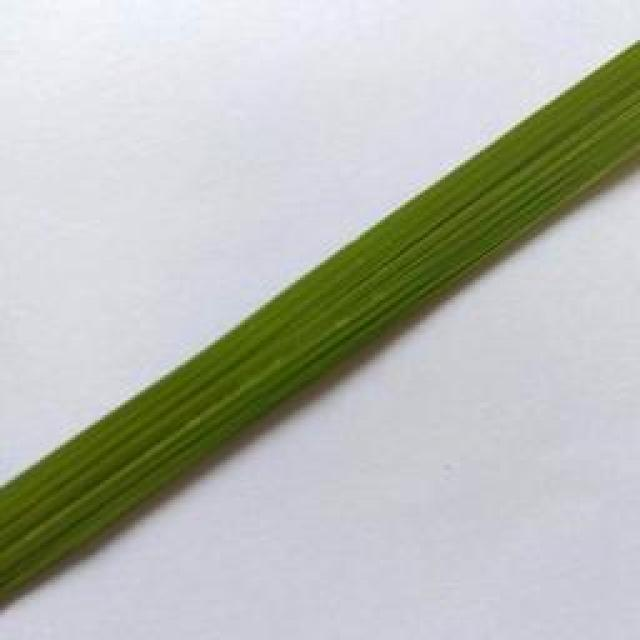Healthy-Plant: (0, 39, 640, 586)
